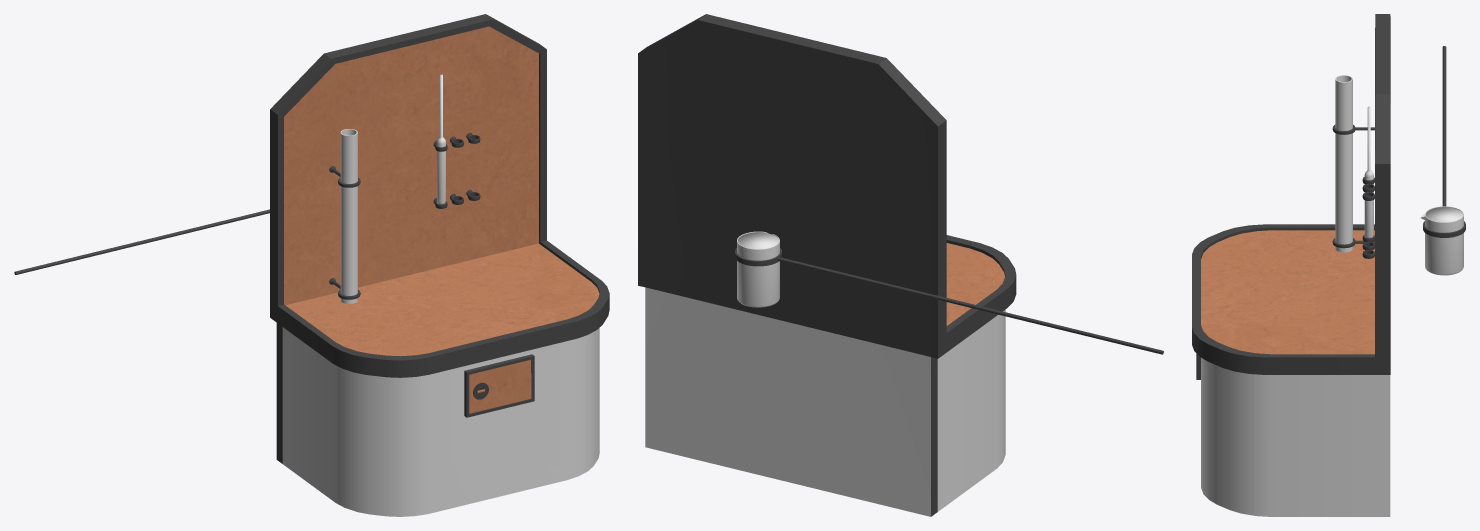
The model's file is Spindel 1.fbx.
The picture shows the model from 3 angles, left to right: view 1: azimuth 30°, elevation 25°; view 2: azimuth 150°, elevation 25°; view 3: azimuth 270°, elevation 25°; orthographic projection. The views are drawn at different scales.
Visible parts, largest first — view 1: Spindel_Station, Behälter, Probe, Spindel; view 2: Spindel_Station, Probe; view 3: Spindel_Station, Behälter, Probe, Spindel, Probe_Fluid, Behälter_Halterung.
Boxes of the visible parts, x1,y1,x2,y2 form: Spindel_Station: (270,14,609,516); Behälter: (340,129,357,303); Probe: (14,209,269,274); Spindel: (437,74,445,204); Spindel_Station: (638,14,1016,516); Probe: (735,231,1163,354); Spindel_Station: (1192,14,1390,516); Behälter: (1335,75,1352,252); Probe: (1420,46,1465,275); Spindel: (1364,106,1373,238); Probe_Fluid: (1425,207,1462,222); Behälter_Halterung: (1332,124,1375,248).
Bounding box in the file's own units: 95.11 × 72.14 × 44.81.
